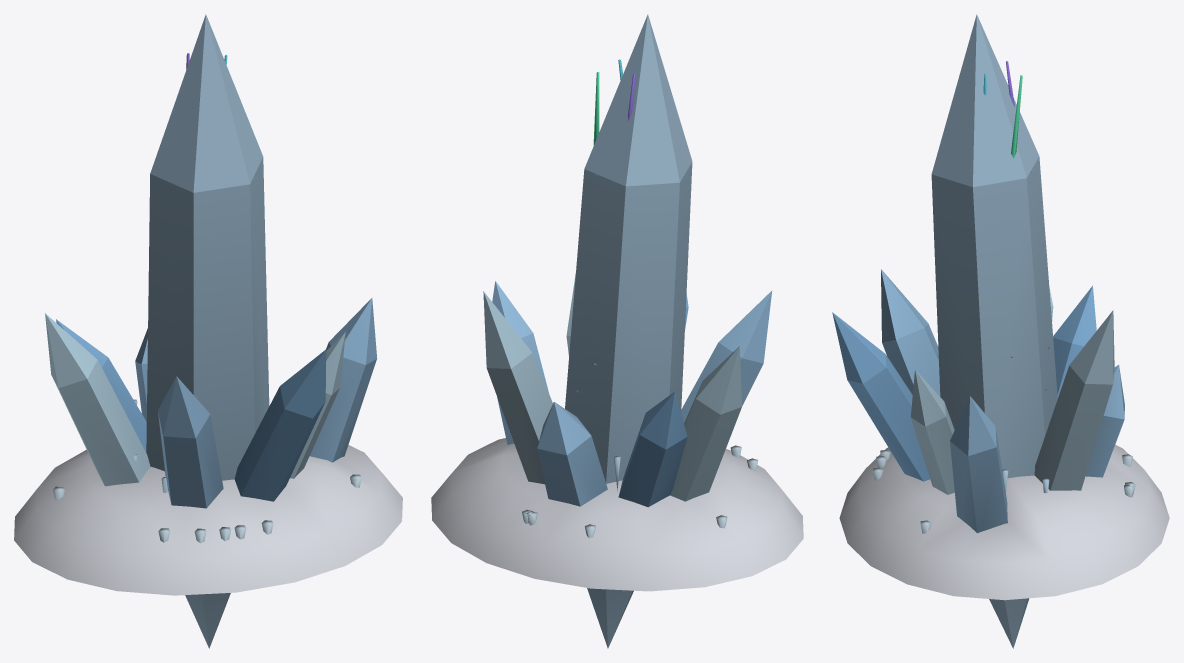
Rendered from icespire.glb.
3 renders of one model, left to right at view 1: azimuth 30°, elevation 25°; view 2: azimuth 150°, elevation 25°; view 3: azimuth 270°, elevation 25°, orthographic. The views are drawn at different scales.
Visible parts, largest first — view 1: icespire; view 2: icespire; view 3: icespire.
Boxes of the visible parts, x1,y1,x2,y2 form: icespire: (14,14,402,648); icespire: (431,14,803,648); icespire: (832,14,1169,648).
Size of the model in its own units: 2.6 by 4.61 by 2.26.
